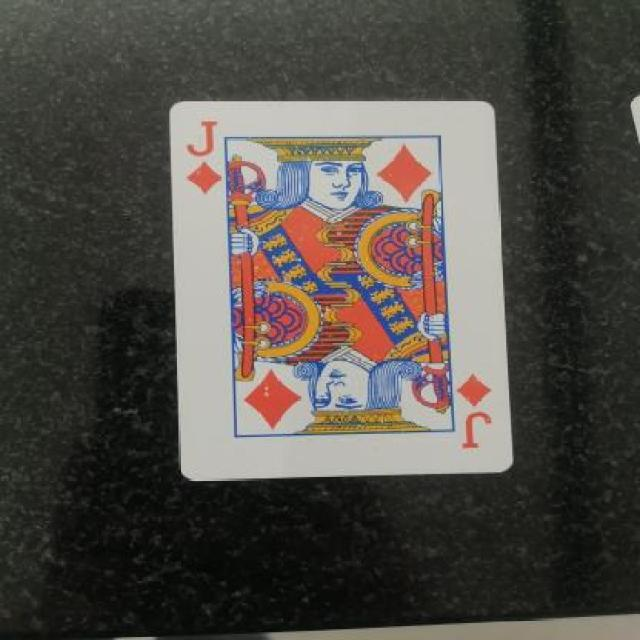JD: (169, 113, 242, 207), (455, 369, 511, 463)
